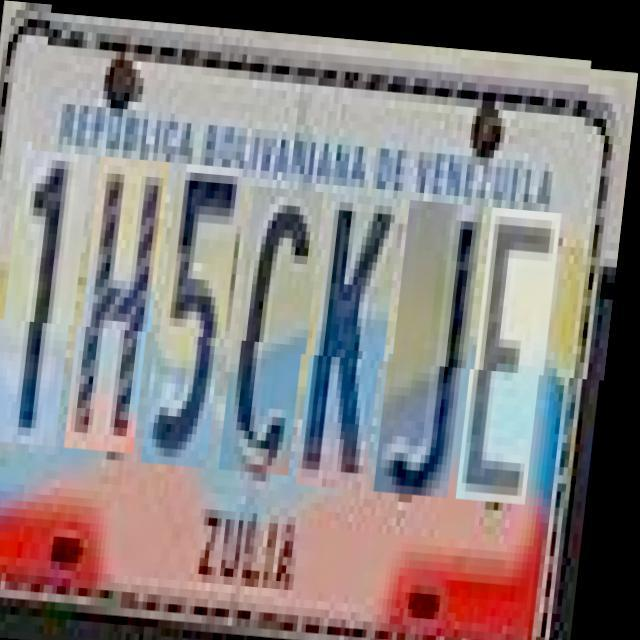1: (0, 148, 96, 444)
5: (156, 160, 247, 463)
C: (234, 182, 328, 469)
E: (470, 198, 566, 494)
H: (78, 154, 174, 450)
J: (388, 192, 488, 489)
K: (310, 187, 406, 483)
